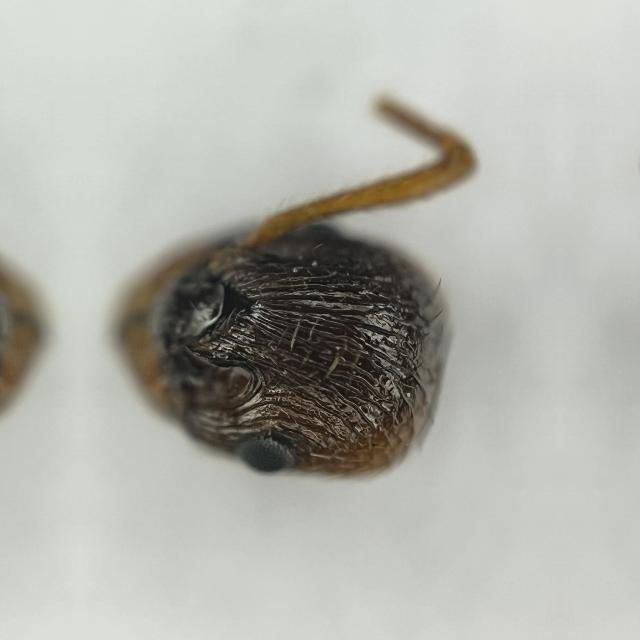Myrmica: (90, 136, 494, 564)
